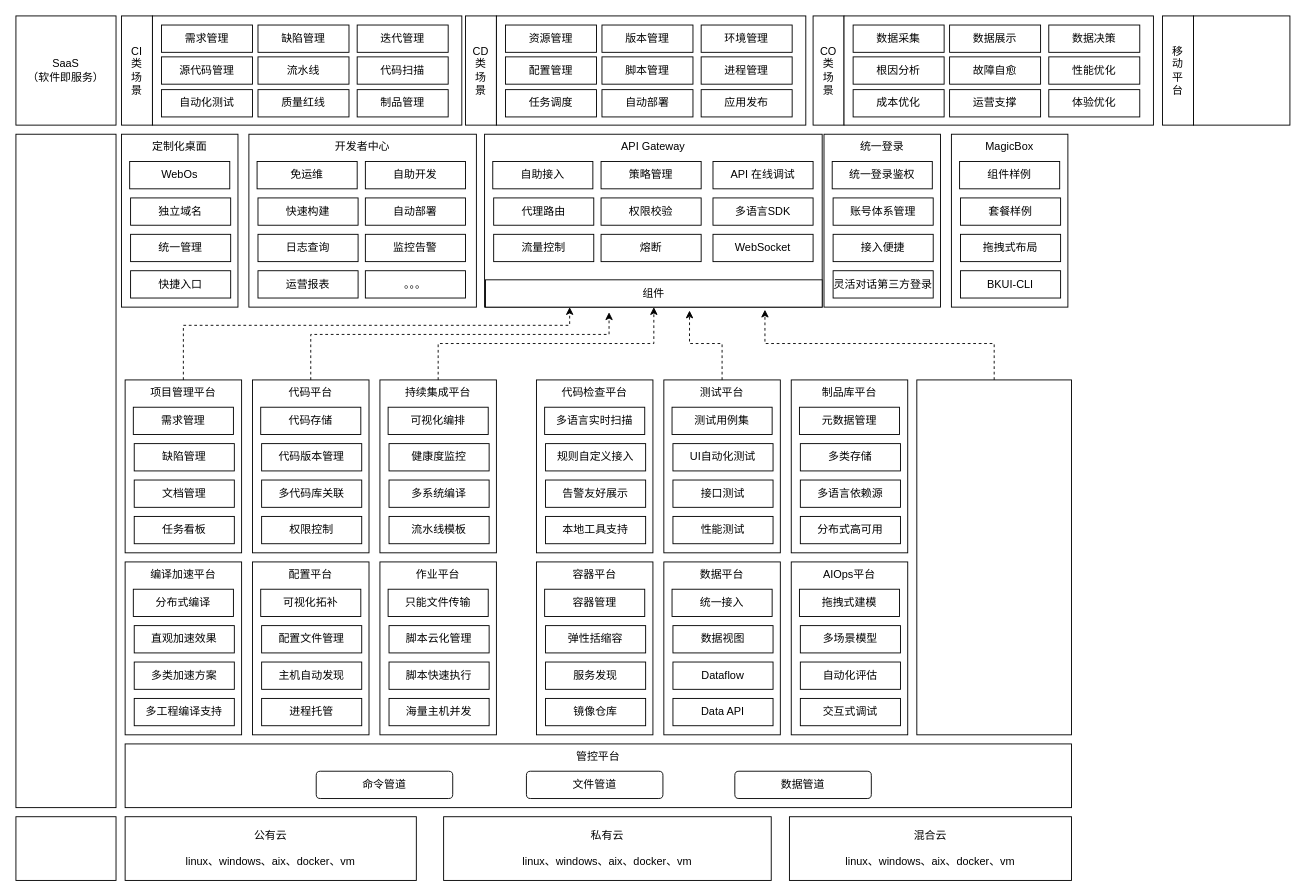
Image size: 1306x896. Some labels were removed from this diagram. The centre of each missing label's shape, as x and y in pixels:
"IaaS （基础设施即服务）" goes at (65,848).
"PaaS （平台即服务）" goes at (65,470).
"第三方系统 微信 短信 oa" goes at (994,557).
